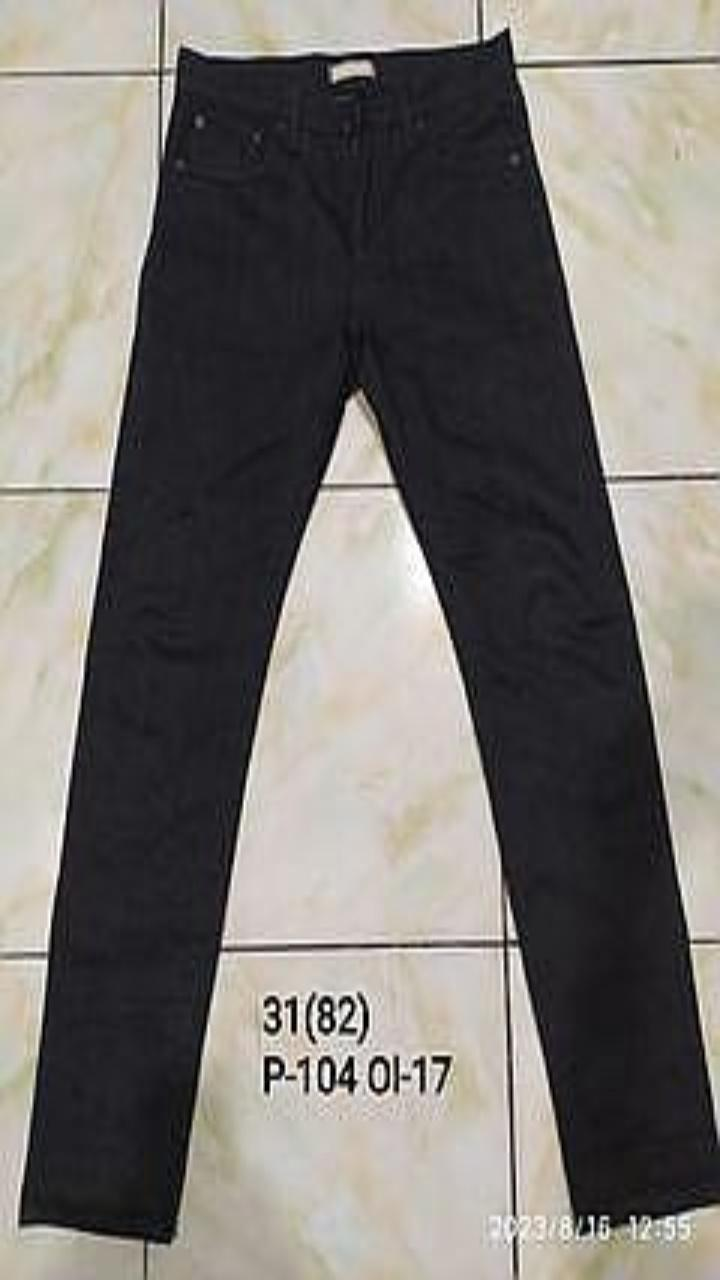Jeans: (19, 28, 719, 1241)
